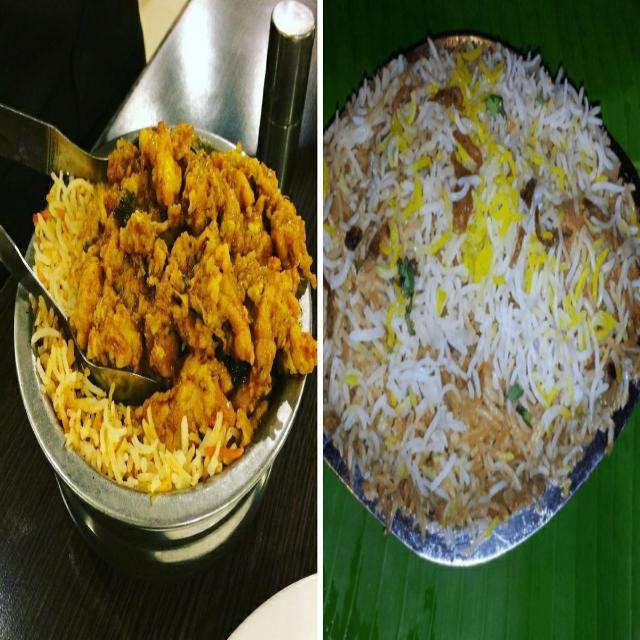Biryani: (321, 35, 640, 540), (28, 118, 317, 492)
